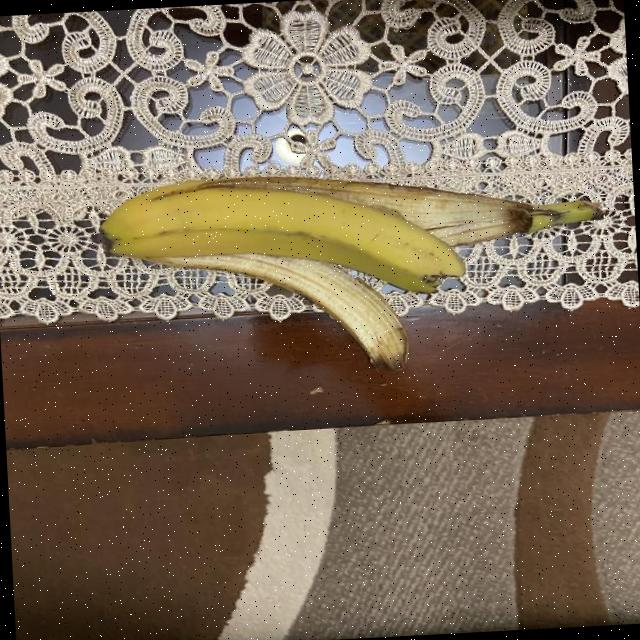banana-peel: (96, 154, 610, 386), (98, 164, 468, 312), (140, 242, 410, 384)
